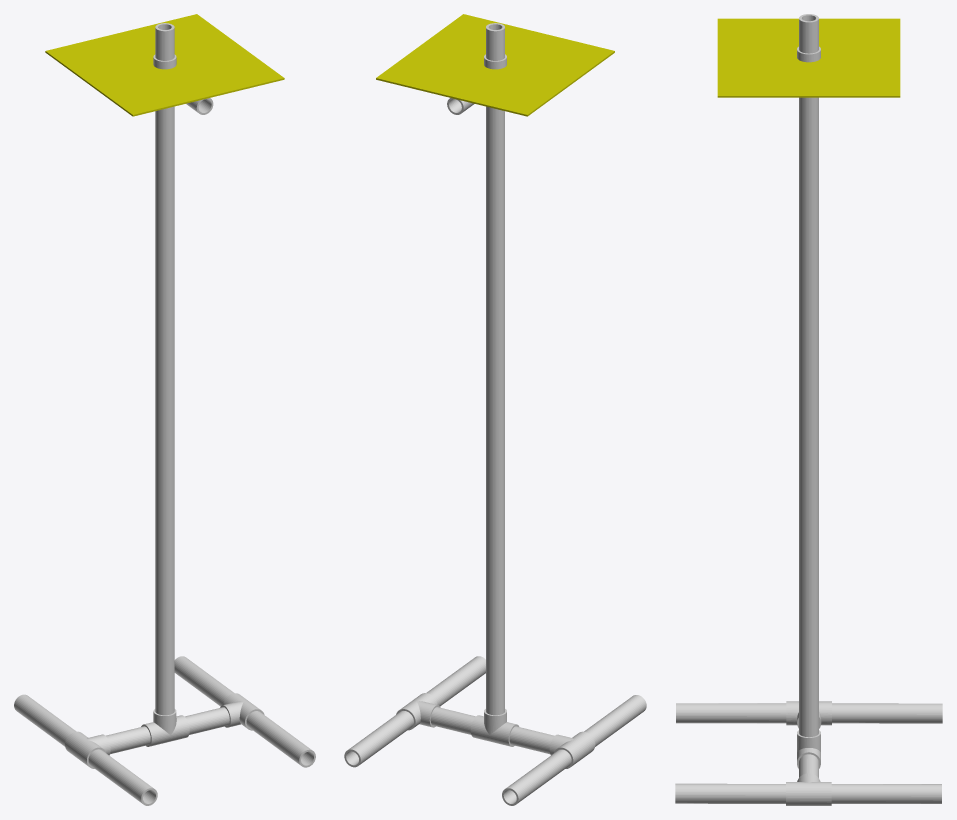
Rendered from CrucifixPlatform.dae.
The picture shows the model from 3 angles, left to right: view 1: azimuth 30°, elevation 25°; view 2: azimuth 150°, elevation 25°; view 3: azimuth 270°, elevation 25°; orthographic projection. The views are drawn at different scales.
Visible parts, largest first — view 1: CrusafixPlatform; view 2: CrusafixPlatform; view 3: CrusafixPlatform.
Part boxes in pixels (x1,y1,x2,y2): CrusafixPlatform: (14, 14, 315, 805); CrusafixPlatform: (344, 14, 646, 805); CrusafixPlatform: (675, 14, 942, 805).
Bounding box in the file's own units: 0.3578 × 0.4453 × 1.37.
